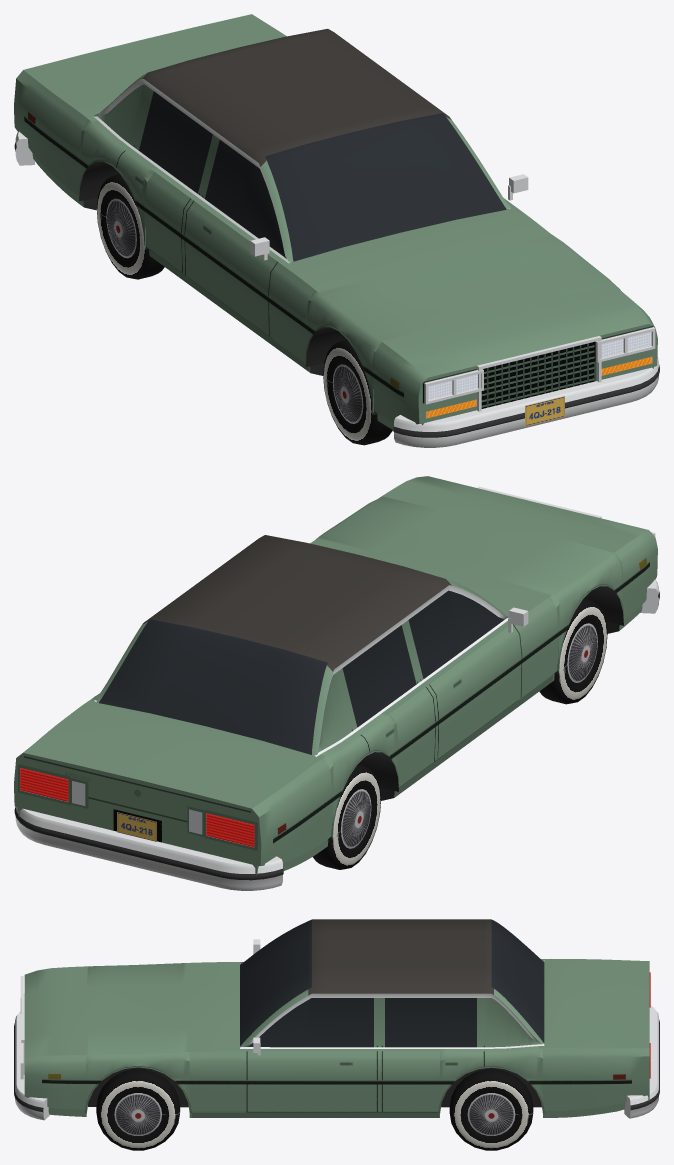
The model's file is caprice.glb.
3 views of the same model, one above another, from view 1: azimuth 30°, elevation 25°; view 2: azimuth 150°, elevation 25°; view 3: azimuth 270°, elevation 25° (orthographic). The views are drawn at different scales.
Visible parts, largest first — view 1: Body, Wheel_FR, Wheel_RR, HeadlightEmit; view 2: Body, Wheel_FR, Wheel_RR, TailLightEmit; view 3: Body, Wheel_FL, Wheel_RL.
Part boxes in pixels (box(x1,y1,x2,y2)): Body: box(14, 14, 659, 447); Wheel_FR: box(323, 339, 392, 445); Wheel_RR: box(96, 173, 164, 279); HeadlightEmit: box(428, 332, 651, 399); Body: box(14, 476, 659, 890); Wheel_FR: box(539, 598, 607, 704); Wheel_RR: box(313, 764, 380, 869); TailLightEmit: box(20, 768, 254, 847); Body: box(14, 919, 659, 1120); Wheel_FL: box(96, 1069, 180, 1150); Wheel_RL: box(449, 1069, 533, 1150).
Size of what is drawn, in the model's own units: 2.06 by 1.44 by 5.4.
13 materials, 13 textured.
